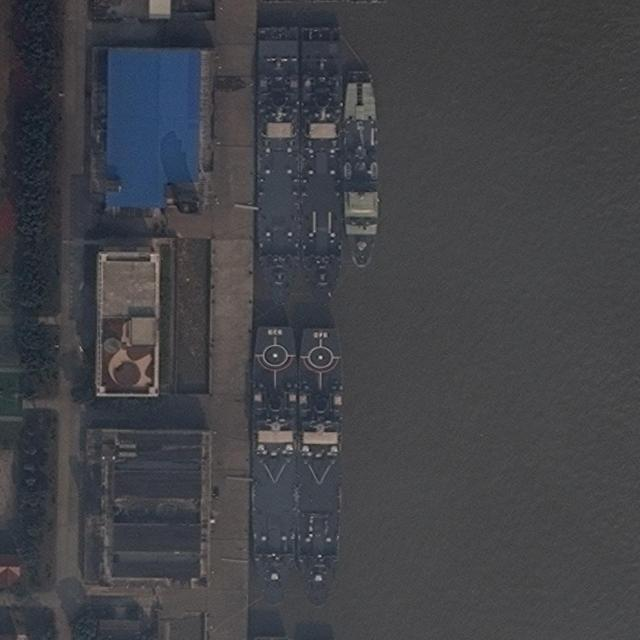Landing: (295, 328, 342, 608), (257, 23, 302, 306), (252, 326, 296, 607), (303, 23, 341, 309)
Other Warship: (344, 72, 377, 269)
